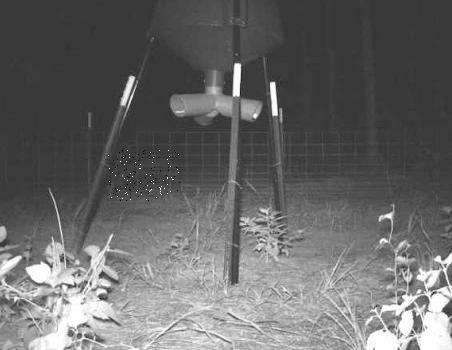Hog: (108, 150, 180, 201)
